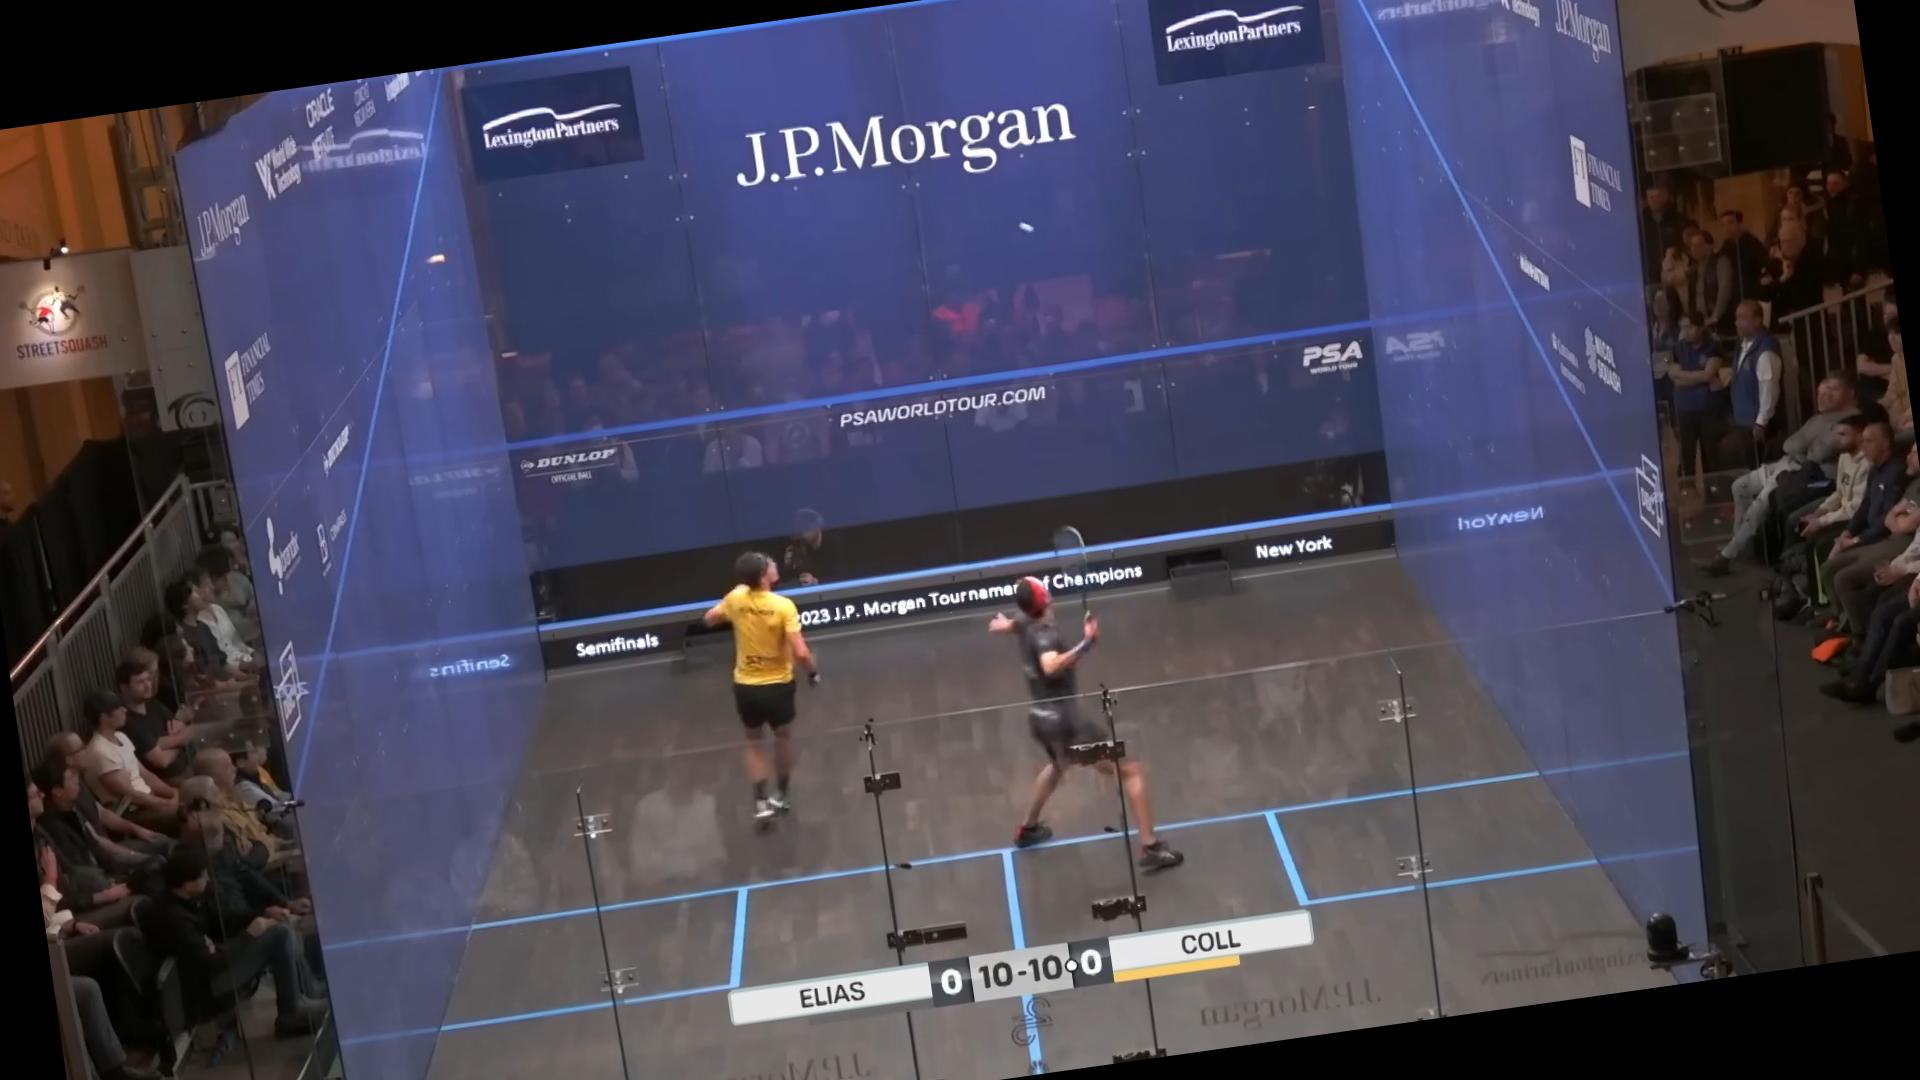Racket: (1043, 512, 1108, 646)
